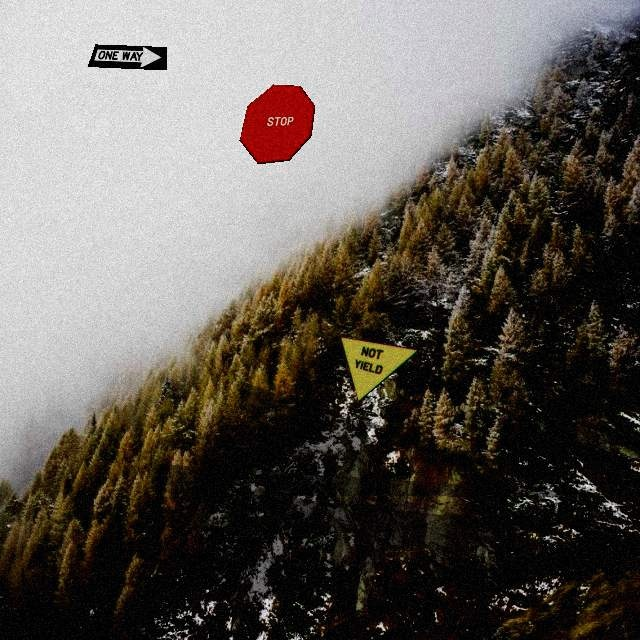NOT_YIELD: (340, 336, 420, 402)
ONE_WAY_ right: (87, 44, 167, 70)
STOP: (239, 84, 315, 164)
